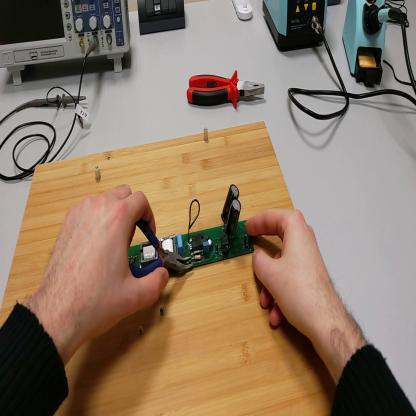hand: (48, 183, 171, 342), (248, 207, 334, 343)
high voltage board: (129, 185, 256, 270)
oscilloscope: (2, 1, 132, 87)
oscilloscope probe tip: (30, 91, 88, 113)
pliers: (129, 220, 195, 279), (188, 71, 268, 112)
socket: (329, 1, 342, 8)
welder base: (345, 2, 388, 91)
welder probe tip: (368, 7, 400, 31)
welder station: (263, 1, 329, 53)
working area: (2, 123, 337, 415)
